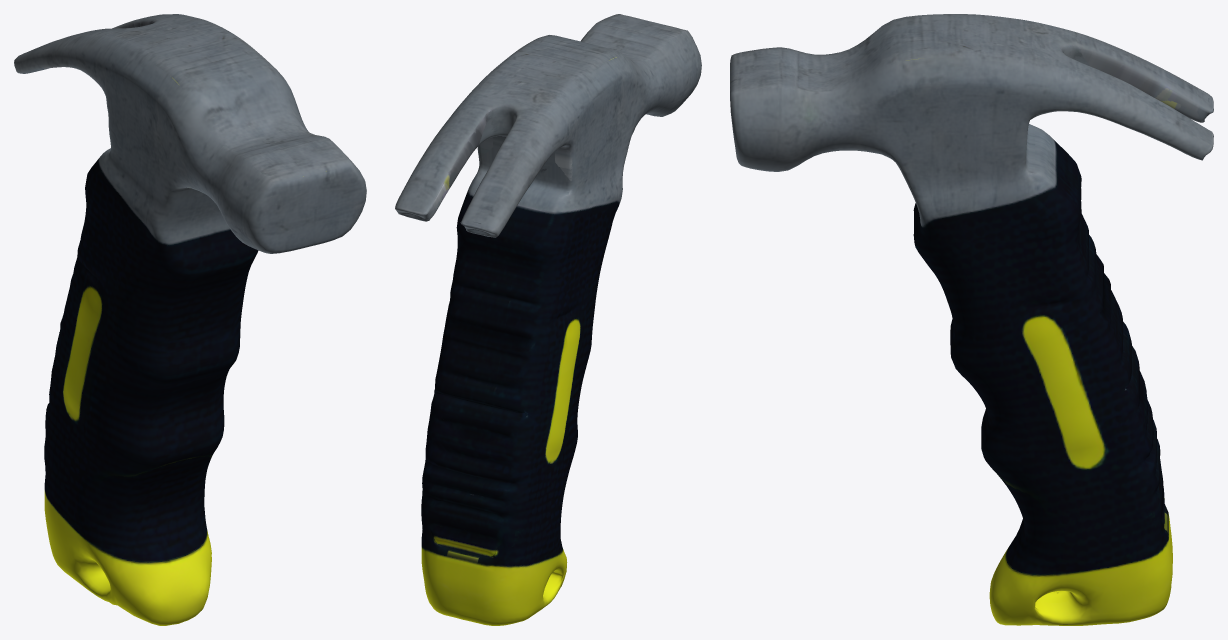
3 views of the same model, side by side, from view 1: azimuth 30°, elevation 25°; view 2: azimuth 150°, elevation 25°; view 3: azimuth 270°, elevation 25° (orthographic). The views are drawn at different scales.
Bounding box in the file's own units: 0.4361 × 1.9 × 1.42.
